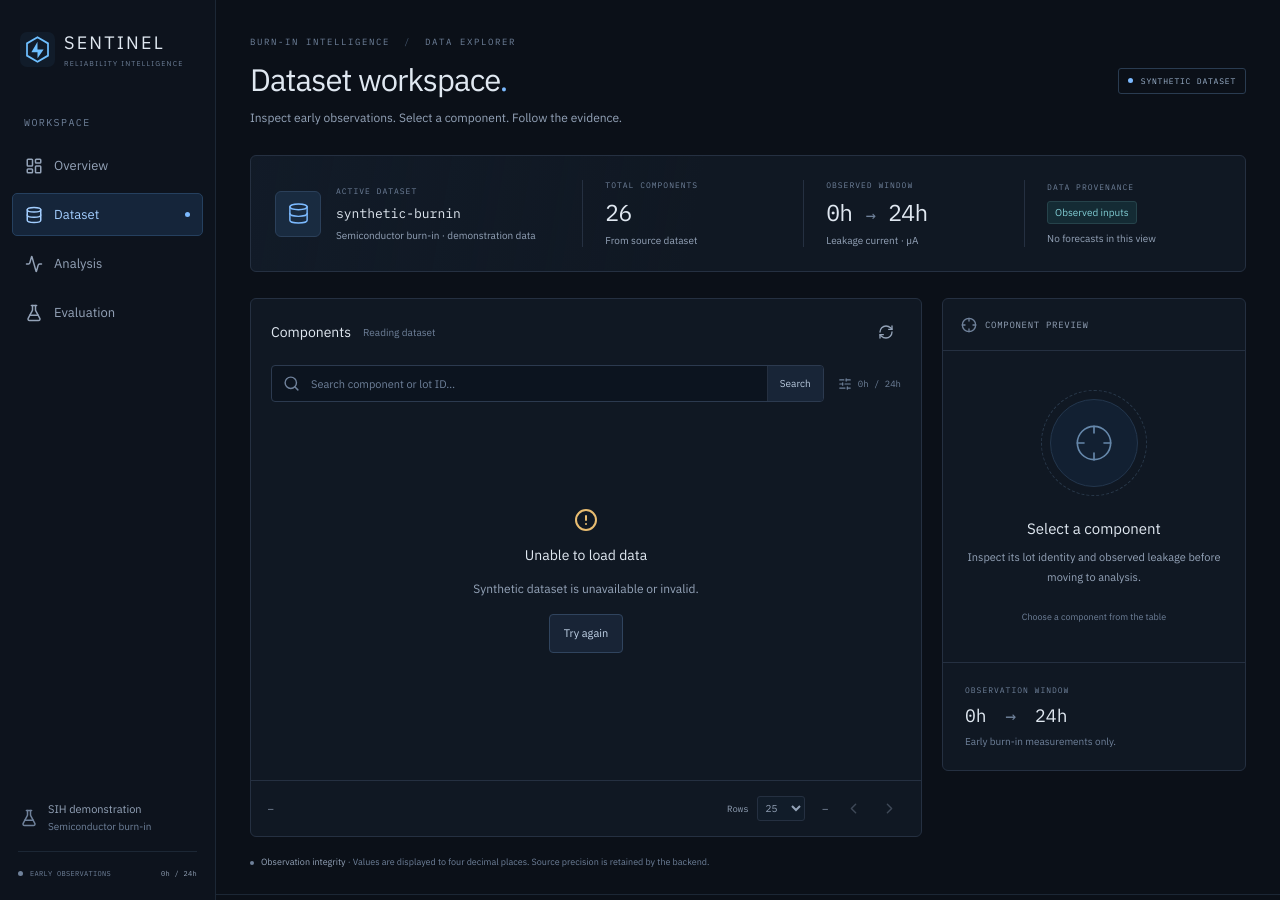
Test: Dataset workspace › shows API errors and retries the failed request
(page scrolled)
Expected: the message "Unable to load data Synthetic dataset is unavailable or invalid. Try again" is shown, [473, 508, 699, 652]
Click the button "Try again". click: [586, 633]
box: [549, 614, 623, 652]
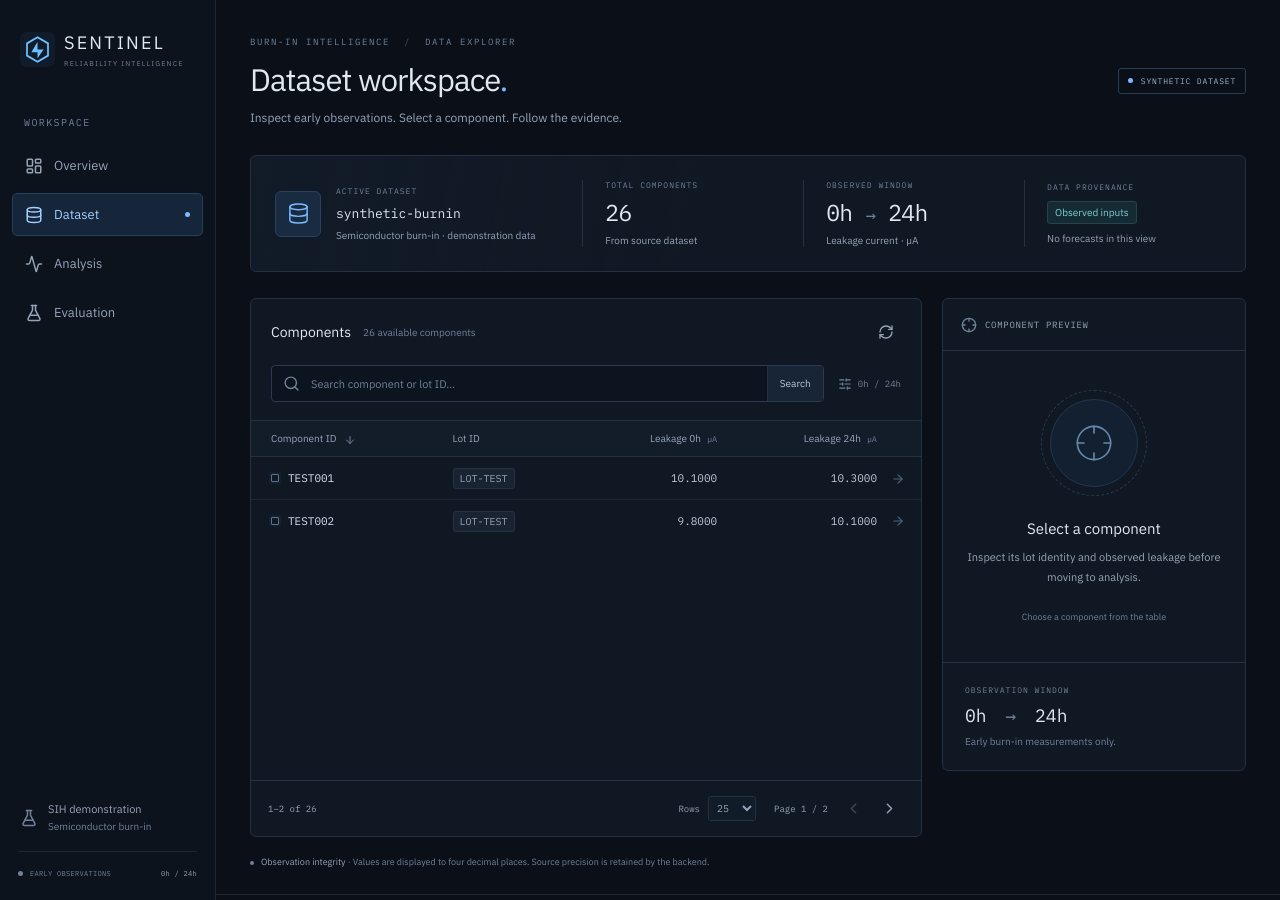
Expected: the button "TEST001" is shown, [271, 463, 334, 493]
